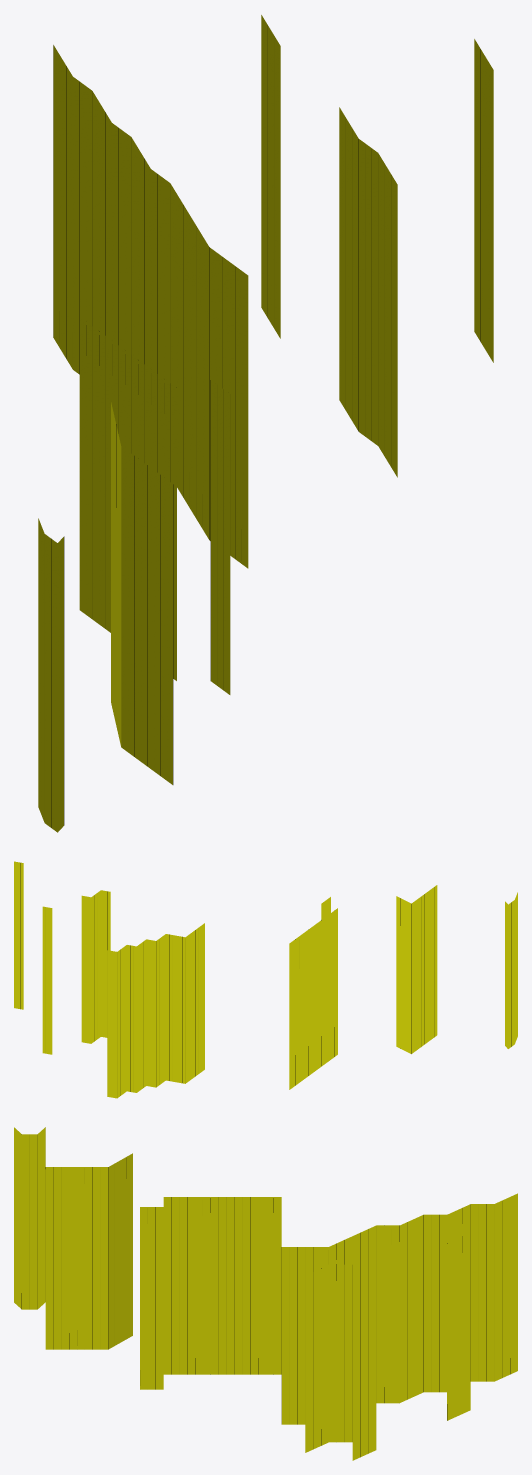
File: Level_yellow.obj
3 views of the same model, one above another, from view 1: azimuth 30°, elevation 25°; view 2: azimuth 150°, elevation 25°; view 3: azimuth 270°, elevation 25° (orthographic). The views are drawn at different scales.
Visible parts, largest first — view 1: Yellow_planar0148; view 2: Yellow_planar0148; view 3: Yellow_planar0148.
Part boxes in pixels (x1,y1,x2,y2): Yellow_planar0148: (38,15,493,832); Yellow_planar0148: (14,861,517,1098); Yellow_planar0148: (14,1127,517,1460).
Bounding box in the file's own units: 63 × 34.58 × 64.
